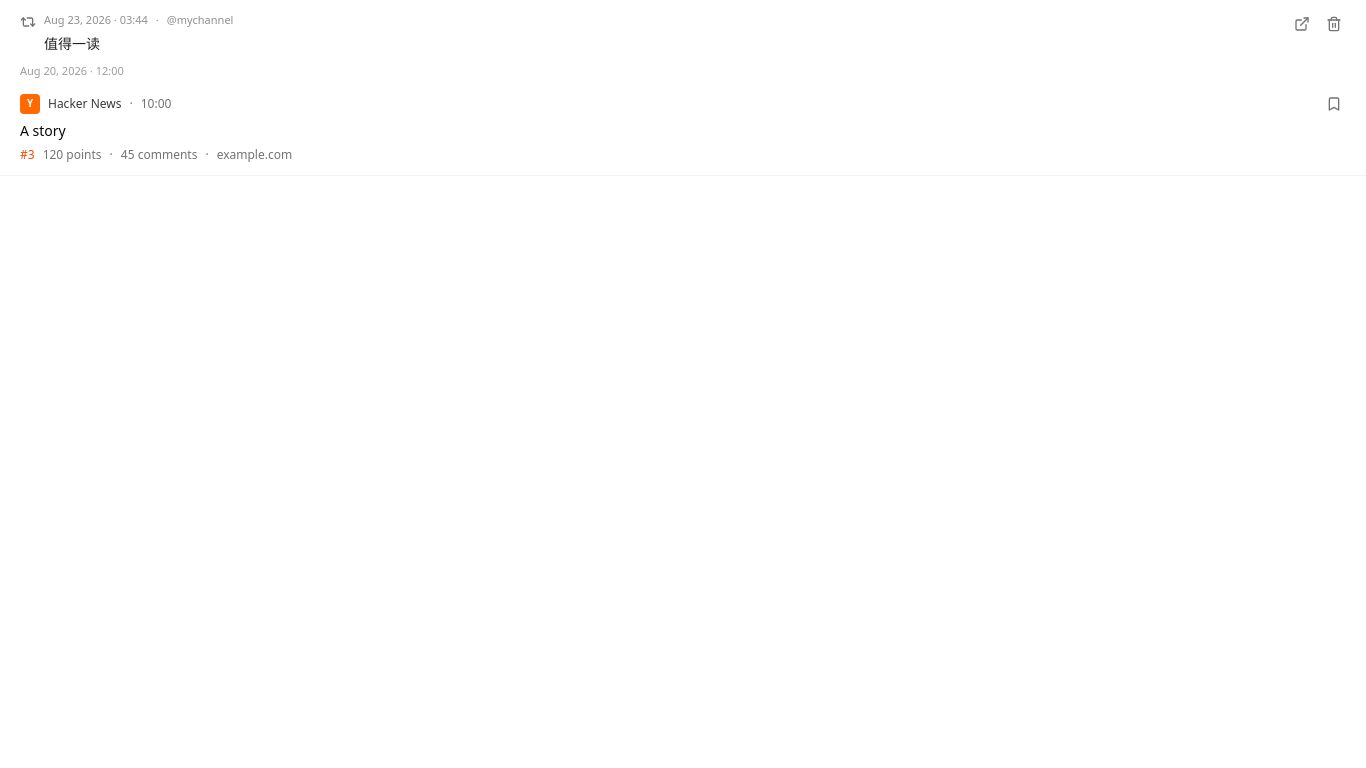
it: ForwardRecordRow › warns that deleting the record leaves the published message alone
Click the button named "删除这条记录" at point(1334, 24), box x1=1322 y1=12 x2=1346 y2=36
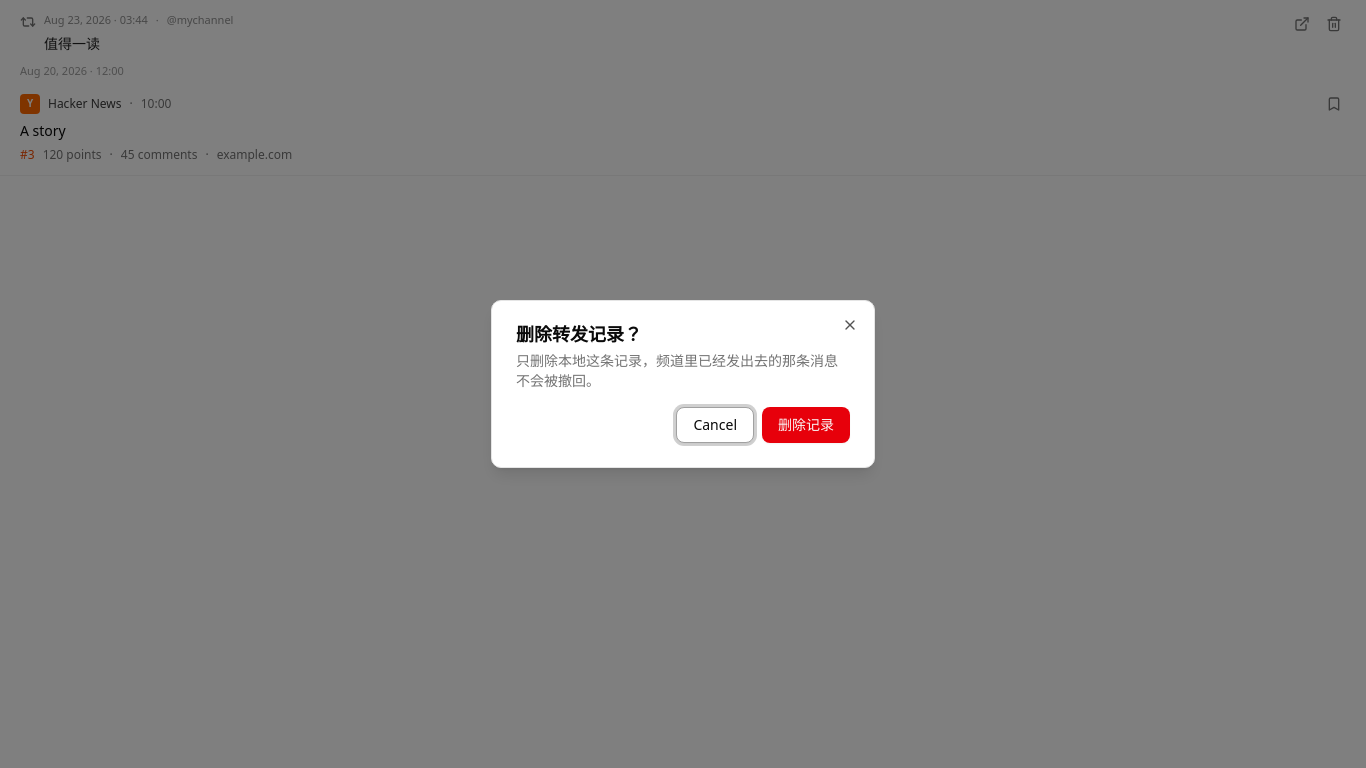
Result: the text "只删除本地这条记录，频道里已经发出去的那条消息不会被撤回。" is shown at x1=516 y1=351 x2=850 y2=391
